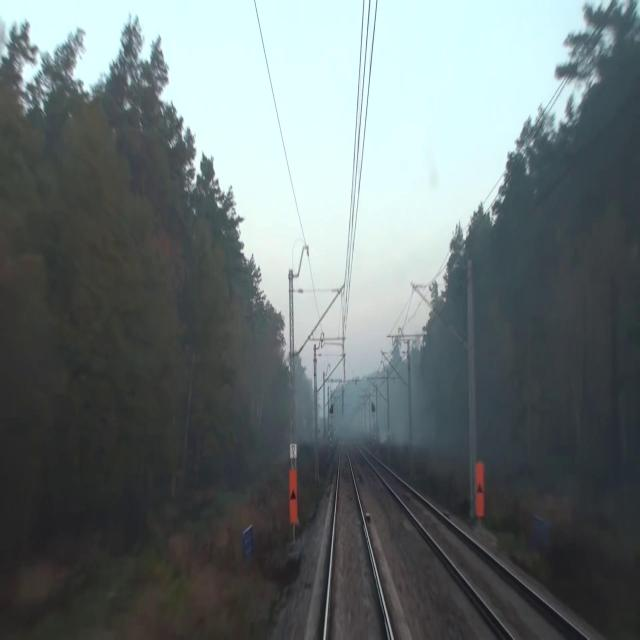rail-track: (374, 461, 580, 639), (328, 446, 389, 639)
